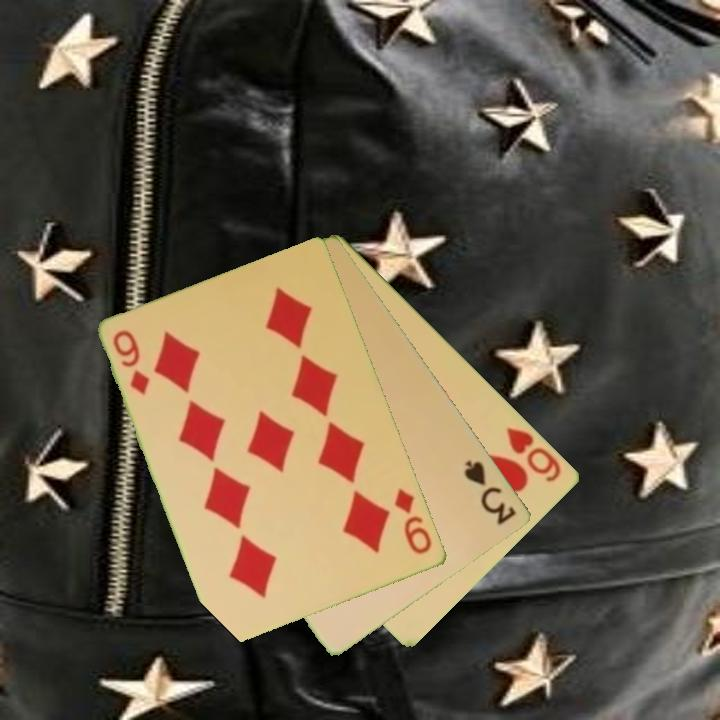3s: (461, 457, 520, 529)
6h: (503, 423, 565, 485)
9d: (391, 484, 436, 558), (110, 326, 153, 398)
